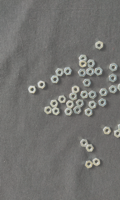nut: (95, 67, 104, 76), (109, 74, 118, 83), (96, 41, 104, 50), (110, 63, 118, 72), (87, 60, 96, 68), (79, 60, 88, 68), (51, 76, 60, 84), (78, 69, 87, 77), (83, 79, 92, 87), (28, 86, 37, 94), (58, 96, 67, 104), (89, 101, 98, 109), (76, 100, 85, 108), (50, 100, 59, 108), (85, 108, 93, 117), (74, 106, 82, 115), (44, 107, 53, 115), (81, 139, 89, 148), (93, 158, 101, 167), (64, 68, 72, 76), (56, 69, 64, 77), (87, 68, 95, 76), (38, 81, 46, 89), (72, 86, 80, 94), (110, 86, 118, 94), (89, 91, 97, 99), (81, 91, 89, 99), (70, 93, 78, 101), (99, 99, 107, 107), (67, 101, 75, 109), (65, 108, 73, 116), (52, 108, 60, 116), (104, 127, 112, 135), (85, 161, 93, 169), (100, 89, 109, 96), (86, 145, 95, 152), (79, 55, 88, 61), (115, 130, 120, 138), (118, 84, 120, 92), (119, 123, 120, 132)
